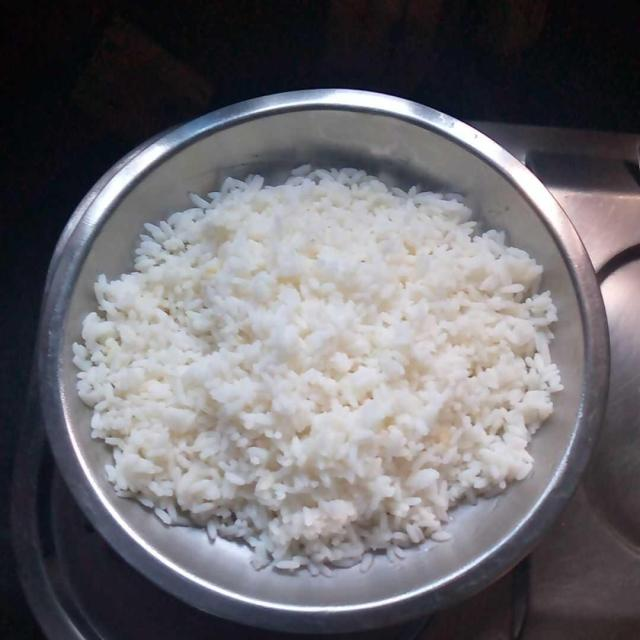rice: (70, 171, 565, 567)
